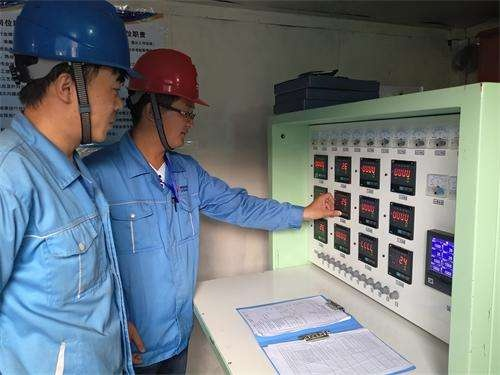blue: (13, 1, 129, 150)
red: (129, 46, 204, 150)
